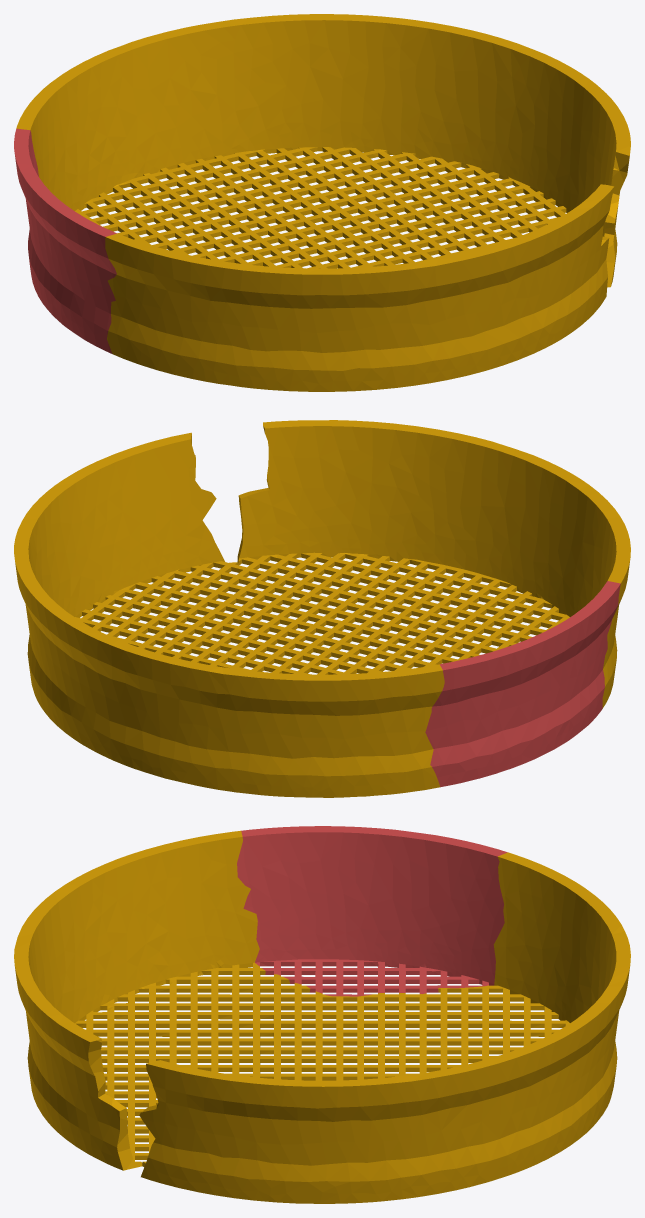
Rendered from fractured_8_2pcs.glb.
3 renders of one model, top to bottom at view 1: azimuth 30°, elevation 25°; view 2: azimuth 150°, elevation 25°; view 3: azimuth 270°, elevation 25°, orthographic.
Parts seen in each view (by area): view 1: piece_0.obj, piece_1.obj; view 2: piece_0.obj, piece_1.obj; view 3: piece_0.obj, piece_1.obj.
Boxes of the visible parts, bbox=[...] form: piece_0.obj: bbox=[16, 14, 630, 391]; piece_1.obj: bbox=[14, 128, 116, 353]; piece_0.obj: bbox=[14, 420, 630, 797]; piece_1.obj: bbox=[425, 581, 620, 787]; piece_0.obj: bbox=[14, 830, 630, 1203]; piece_1.obj: bbox=[237, 826, 507, 996].
Bounding box in the file's own units: 1 × 0.2226 × 0.9999.
